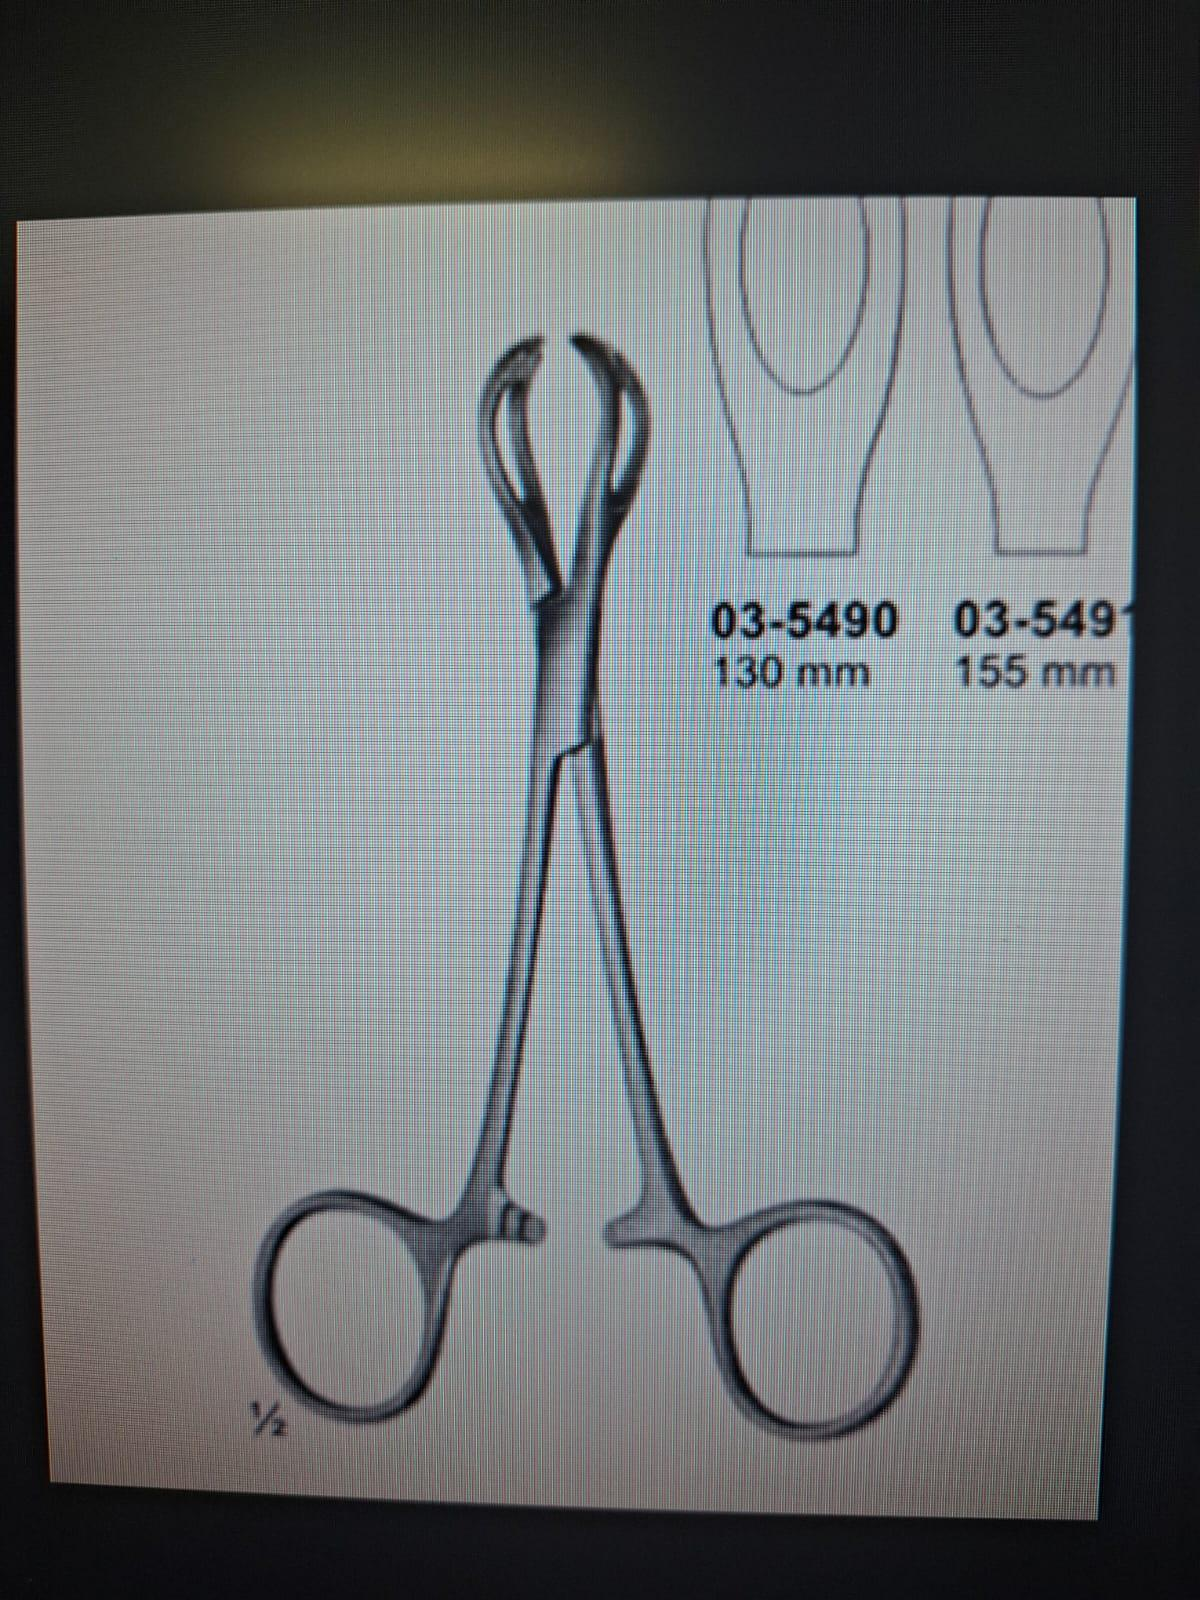Lane Tissue Forceps: (235, 310, 930, 1475)
